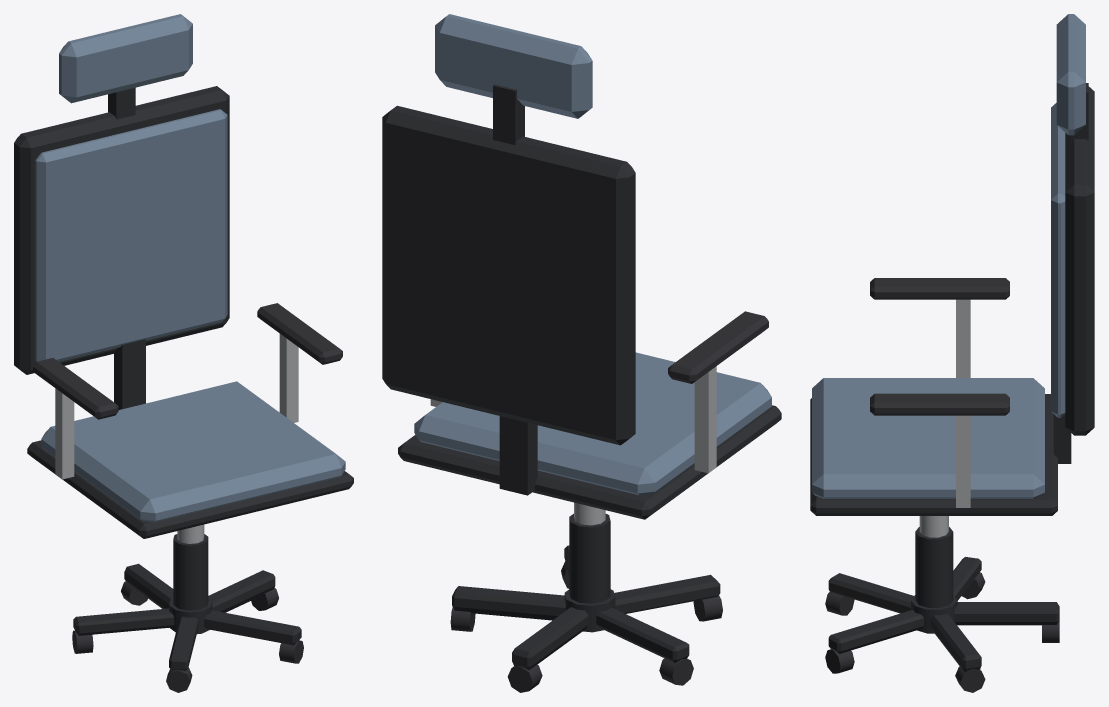
File: astro_chair.fbx
3 views of the same model, side by side, from view 1: azimuth 30°, elevation 25°; view 2: azimuth 150°, elevation 25°; view 3: azimuth 270°, elevation 25° (orthographic). The views are drawn at different scales.
Parts seen in each view (by area): view 1: Chair_Body; view 2: Chair_Body; view 3: Chair_Body.
Part boxes in pixels (x1,y1,x2,y2): Chair_Body: (14,14,353,692); Chair_Body: (382,14,781,692); Chair_Body: (810,14,1094,692).
Size of the model in its own units: 137 by 300 by 129.
